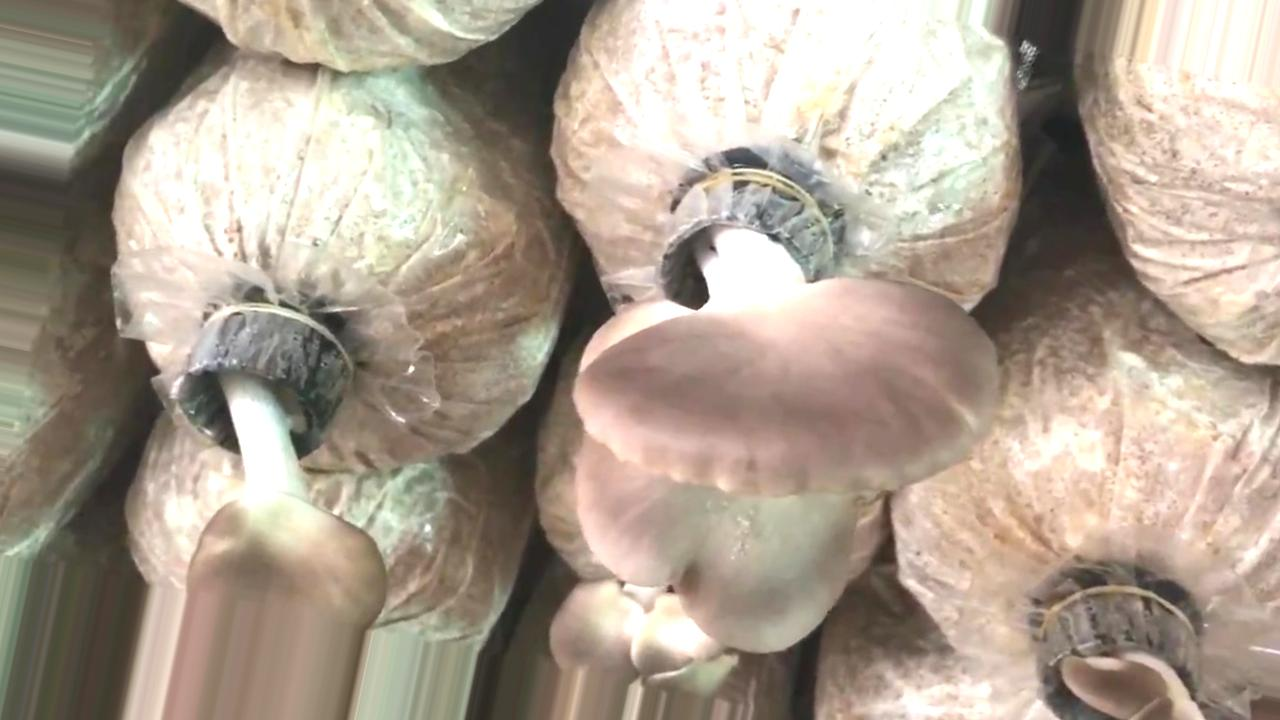nam: (572, 177, 1000, 655), (168, 308, 384, 719), (1048, 591, 1204, 720)
